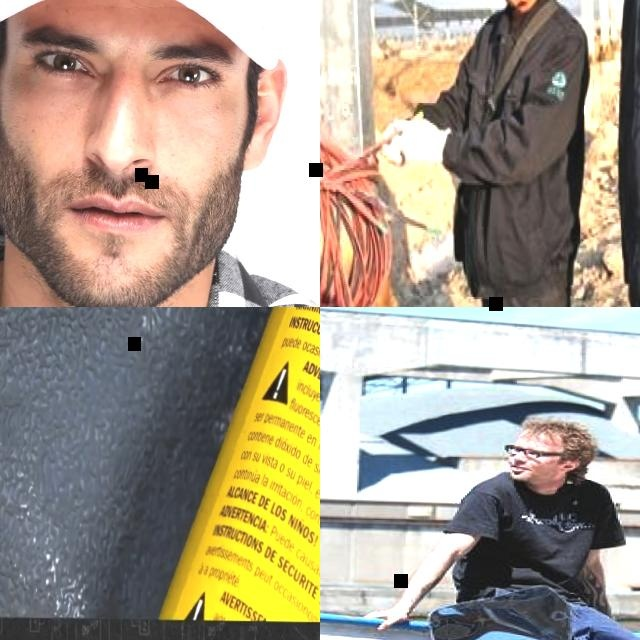NO-Hardhat: (0, 0, 284, 65), (520, 419, 594, 448)
NO-Mask: (5, 161, 238, 307), (508, 458, 564, 481)
NO-Safety Vest: (466, 16, 581, 272), (465, 469, 608, 592)
Person: (0, 0, 320, 307), (378, 0, 592, 307), (368, 416, 640, 640)
